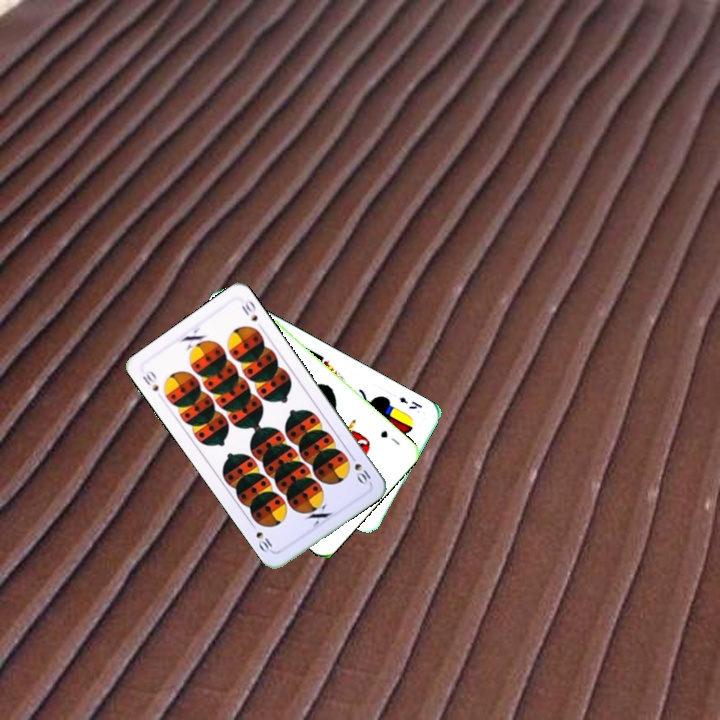EK: (395, 393, 425, 412)
GU: (376, 426, 403, 448)
S10: (346, 450, 373, 487), (138, 366, 161, 394)
